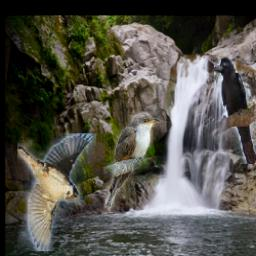Crow: (213, 57, 255, 164)
Cuckoo: (103, 111, 161, 213)
Sparrow: (16, 134, 95, 252)
